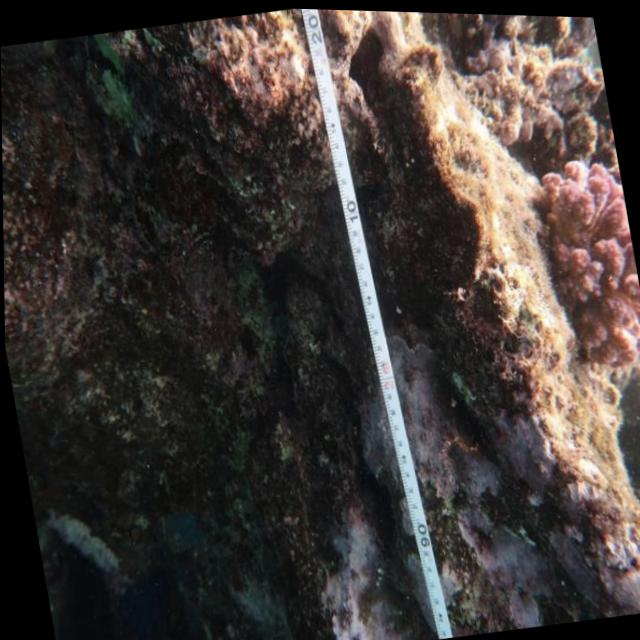Healthy Coral: (531, 127, 640, 381)
